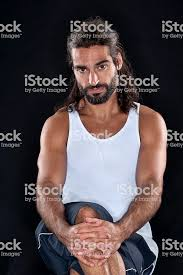middle_eastern_male: (70, 28, 125, 97)
